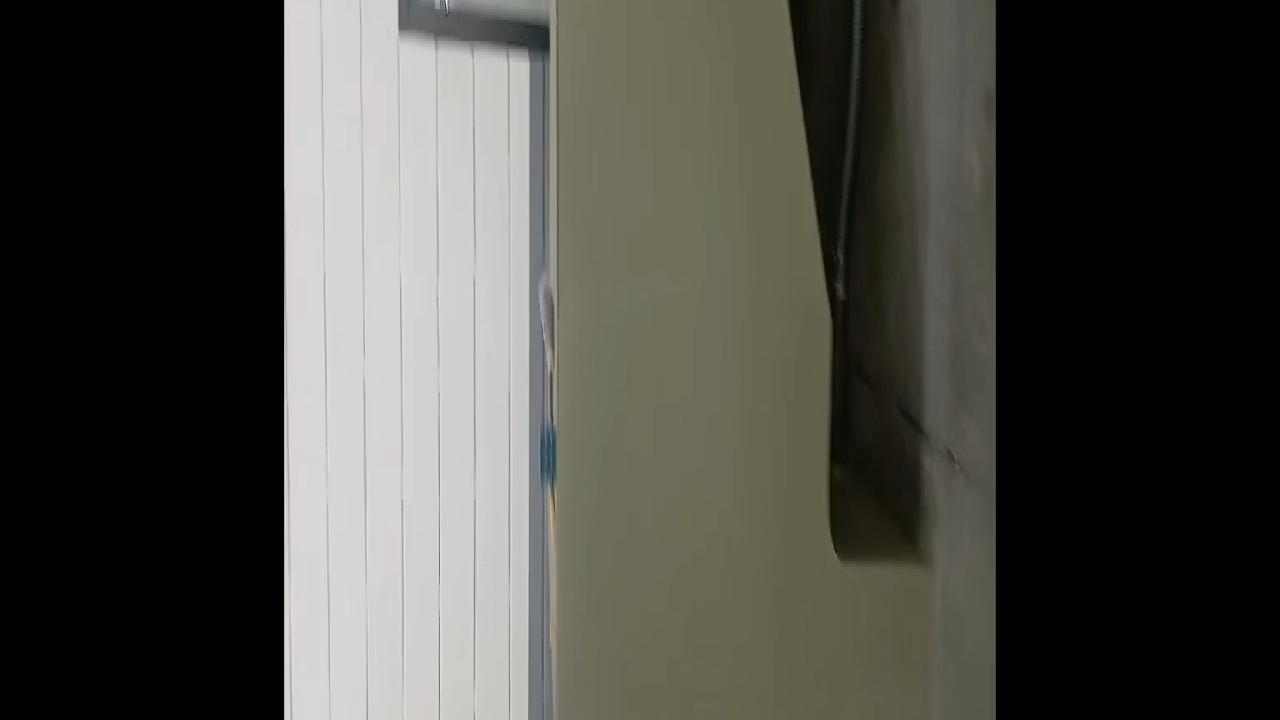Cube: (538, 420, 558, 480)
